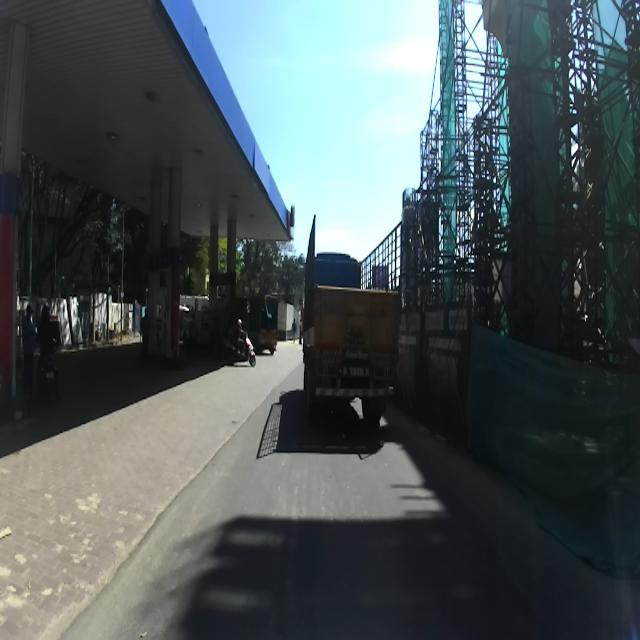truck ahead at: (298, 216, 404, 417)
